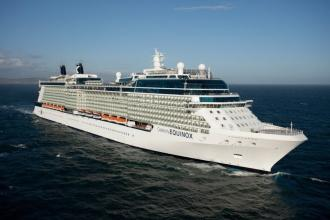youlun: (35, 60, 305, 174)
